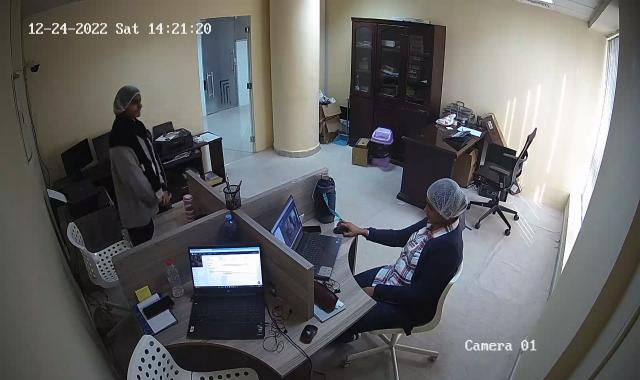hairnet: (426, 179, 470, 226), (111, 86, 141, 120)
